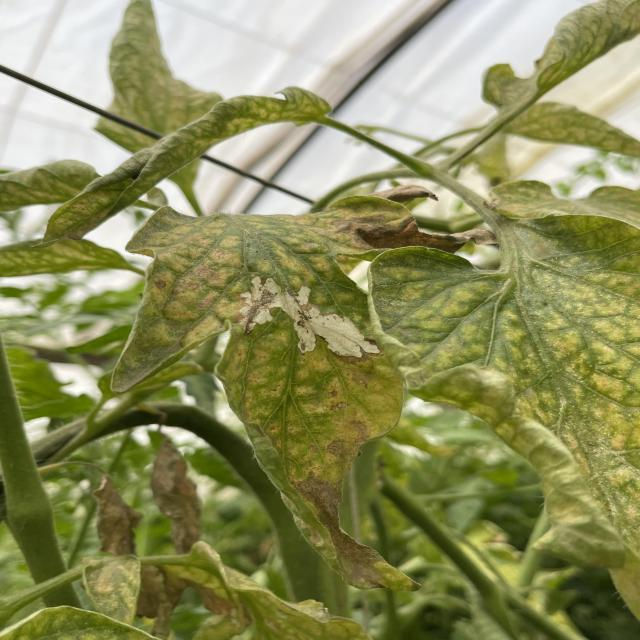Tuta absoluta: (230, 264, 392, 381)
